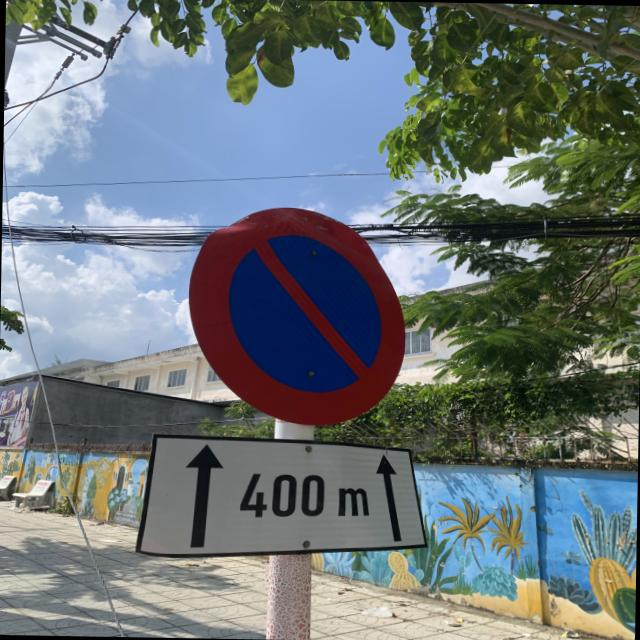Cam_Dau_Xe: (180, 205, 414, 430)
